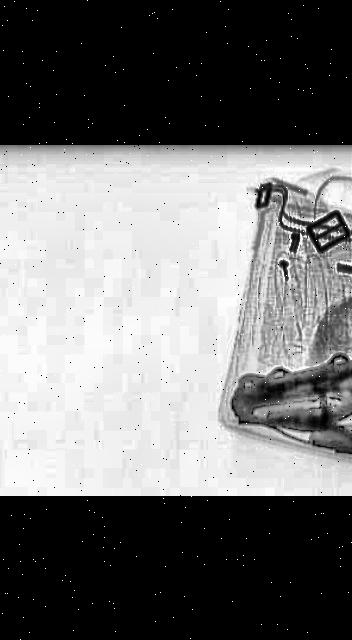Pliers: (261, 390, 352, 446)
Wrench: (228, 333, 352, 408)
